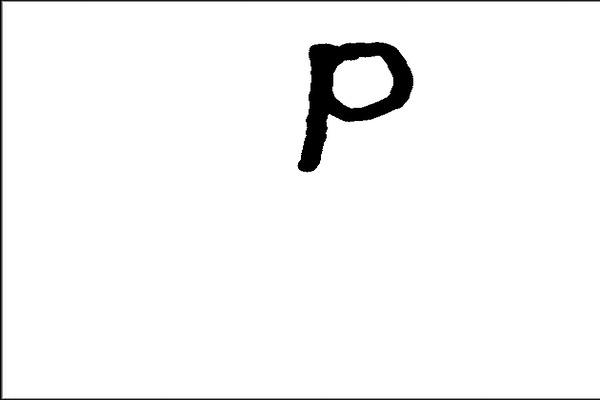P: (289, 38, 419, 185)
